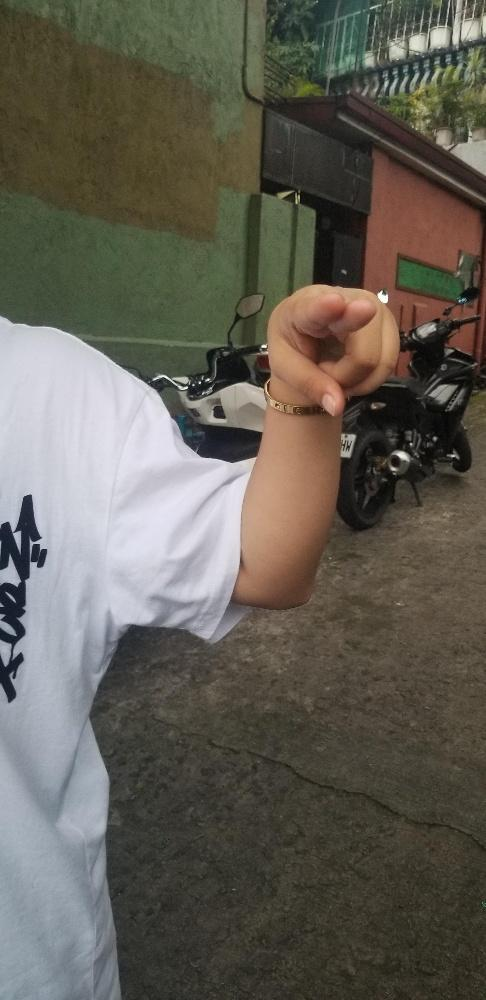n: (265, 282, 400, 417)
